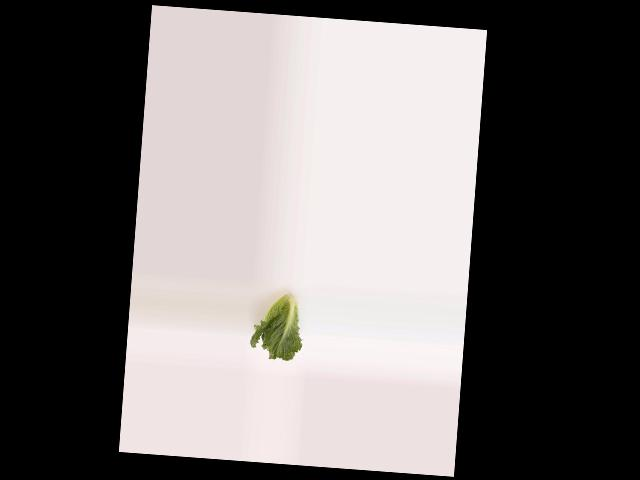lettuce: (251, 284, 307, 364)
